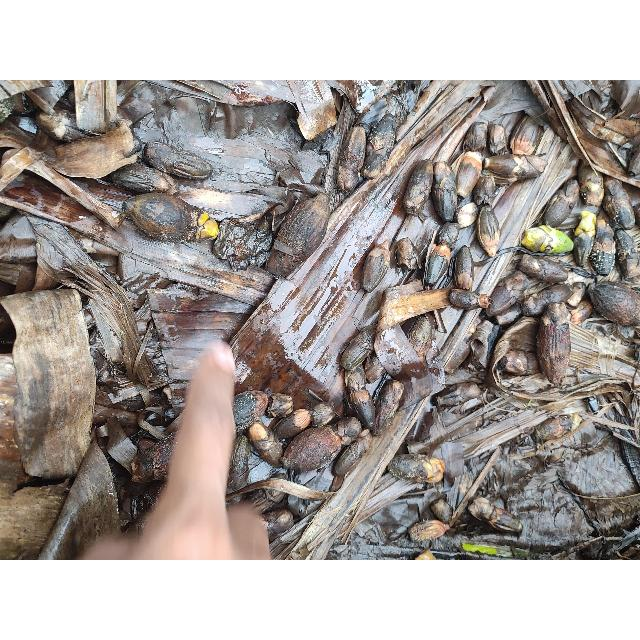damaged: (112, 192, 220, 244), (274, 190, 326, 266), (139, 140, 217, 182), (85, 296, 128, 366), (280, 424, 340, 474), (534, 302, 570, 384), (586, 281, 640, 325), (109, 163, 177, 195), (486, 273, 532, 317), (334, 427, 374, 477), (336, 124, 364, 192), (542, 179, 580, 227), (248, 419, 284, 467), (602, 178, 636, 228), (125, 480, 163, 524), (374, 381, 404, 435), (232, 390, 268, 434), (518, 253, 570, 283), (522, 224, 574, 254), (392, 452, 442, 483), (532, 412, 582, 443), (588, 220, 616, 274), (405, 159, 431, 217), (339, 327, 373, 371), (361, 242, 389, 294), (510, 114, 544, 156), (364, 114, 396, 156), (405, 316, 431, 366), (476, 203, 500, 257), (348, 387, 376, 433), (272, 408, 312, 440), (228, 435, 250, 491), (578, 162, 604, 206), (497, 349, 539, 376), (544, 104, 570, 146), (454, 244, 476, 292), (424, 242, 446, 288), (258, 508, 294, 536), (438, 382, 482, 404), (408, 518, 448, 542), (394, 237, 418, 275), (331, 416, 362, 444), (572, 229, 594, 267), (362, 151, 388, 183), (463, 121, 487, 155), (307, 402, 337, 428), (344, 363, 368, 393), (474, 175, 496, 207), (488, 123, 508, 157), (268, 393, 294, 419), (437, 222, 461, 250), (568, 298, 592, 324), (430, 496, 452, 524), (457, 202, 478, 228), (566, 282, 586, 308)
